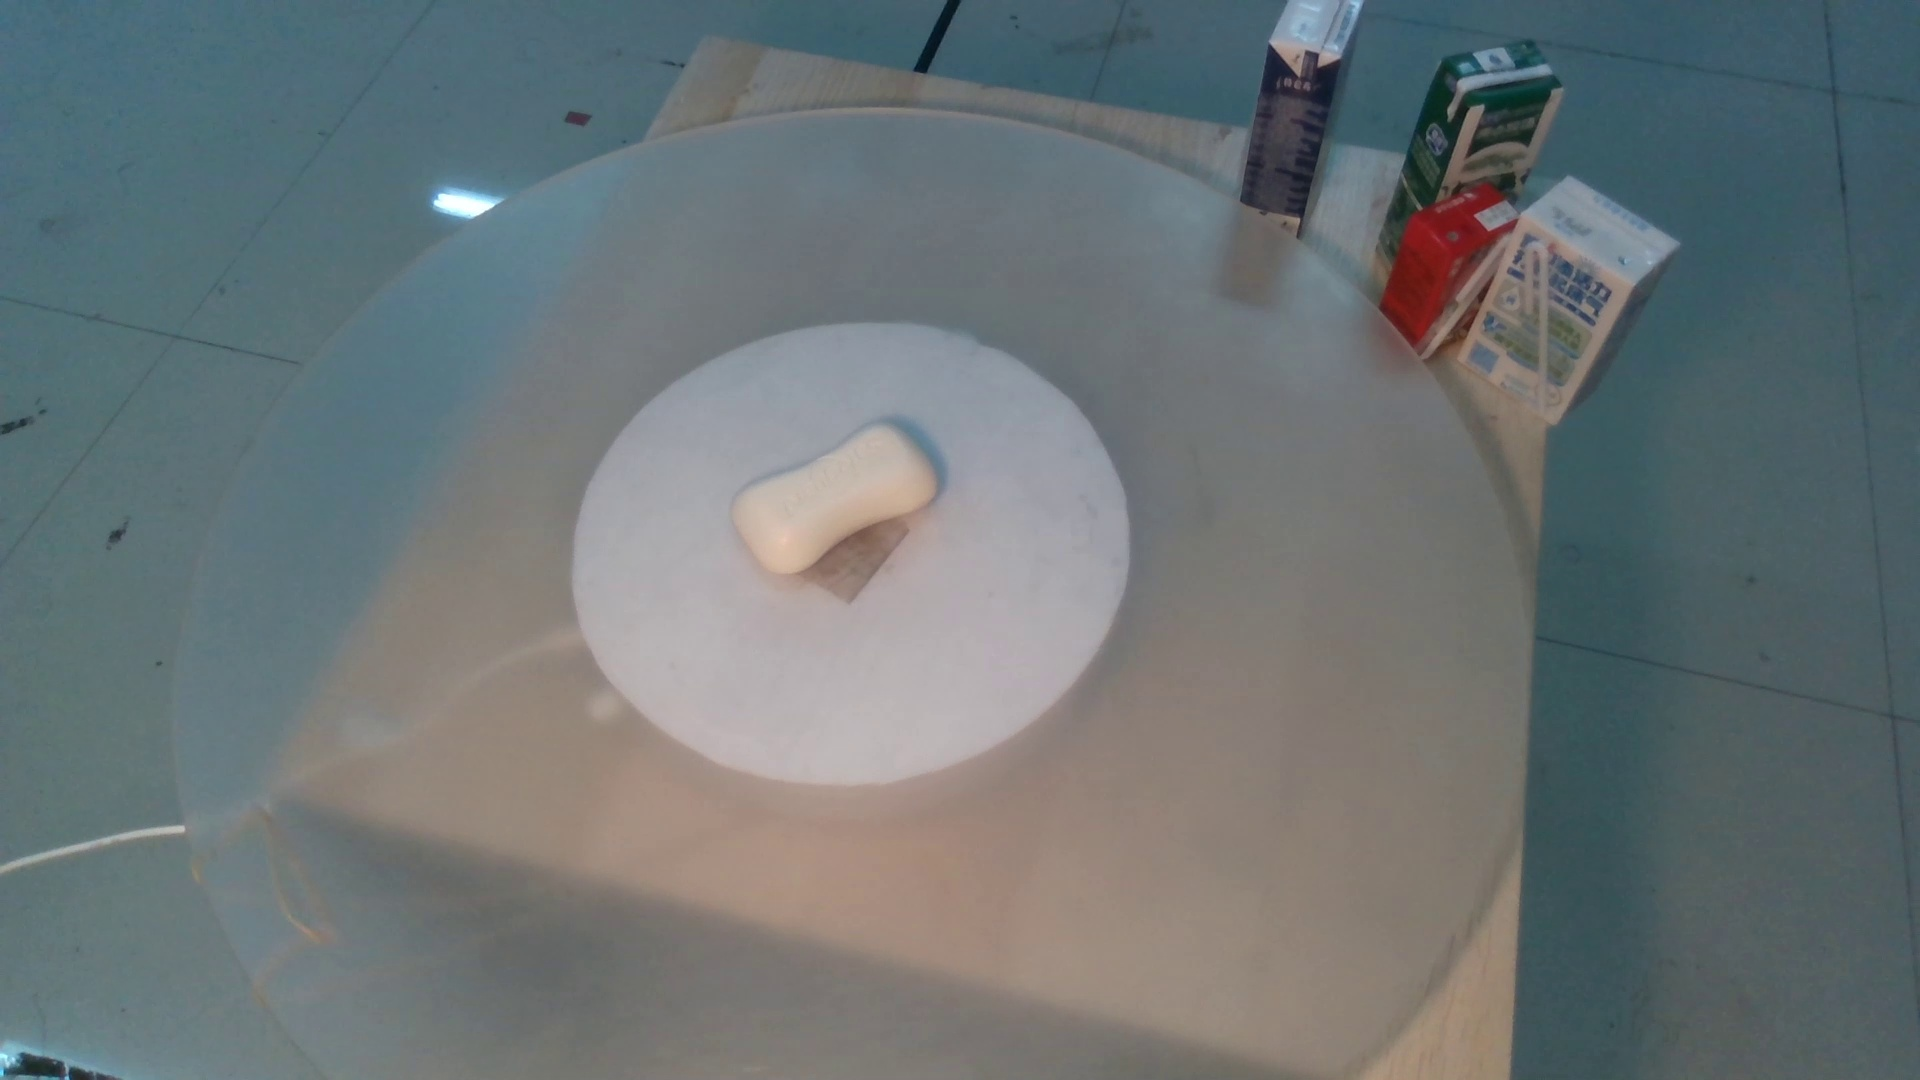CA003_1: (719, 413, 975, 589)
